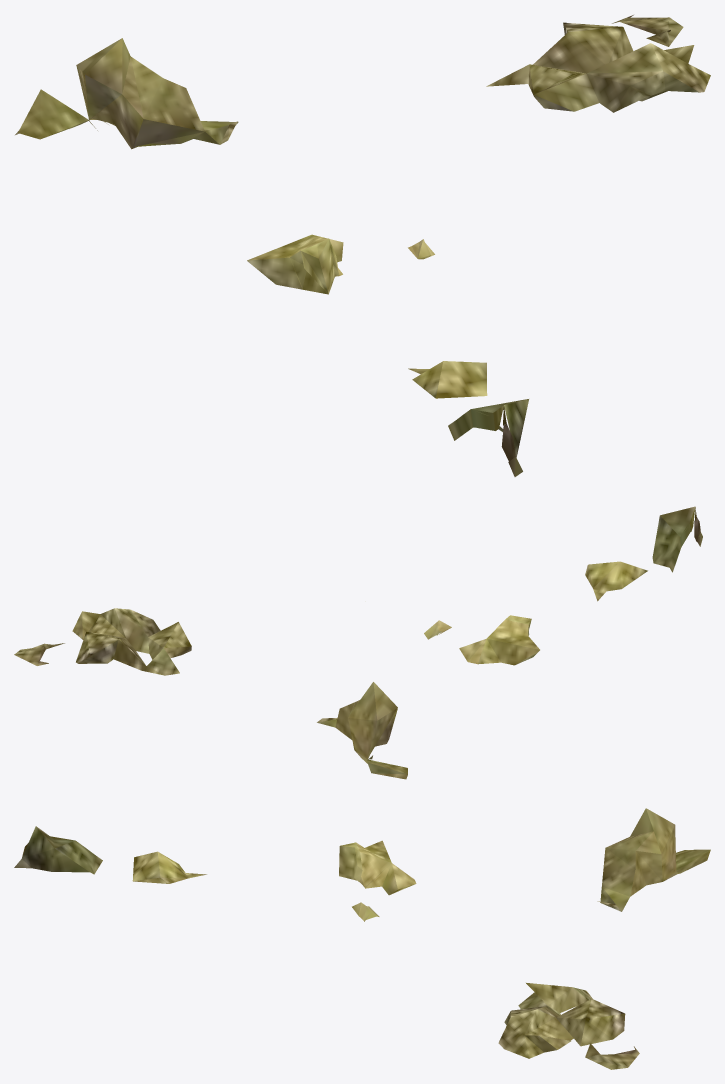
3 renders of one model, top to bottom at view 1: azimuth 30°, elevation 25°; view 2: azimuth 150°, elevation 25°; view 3: azimuth 270°, elevation 25°, orthographic. The views are drawn at different scales.
Visible parts, largest first — view 1: Mesh_0; view 2: Mesh_0; view 3: Mesh_0.
Boxes of the visible parts, x1=… form: Mesh_0: x1=15, y1=15, x2=710, y2=476; Mesh_0: x1=14, y1=506, x2=702, y2=779; Mesh_0: x1=14, y1=808, x2=710, y2=1069.
Bounding box in the file's own units: 21.12 × 3.68 × 28.85.
1 material, 1 textured.
